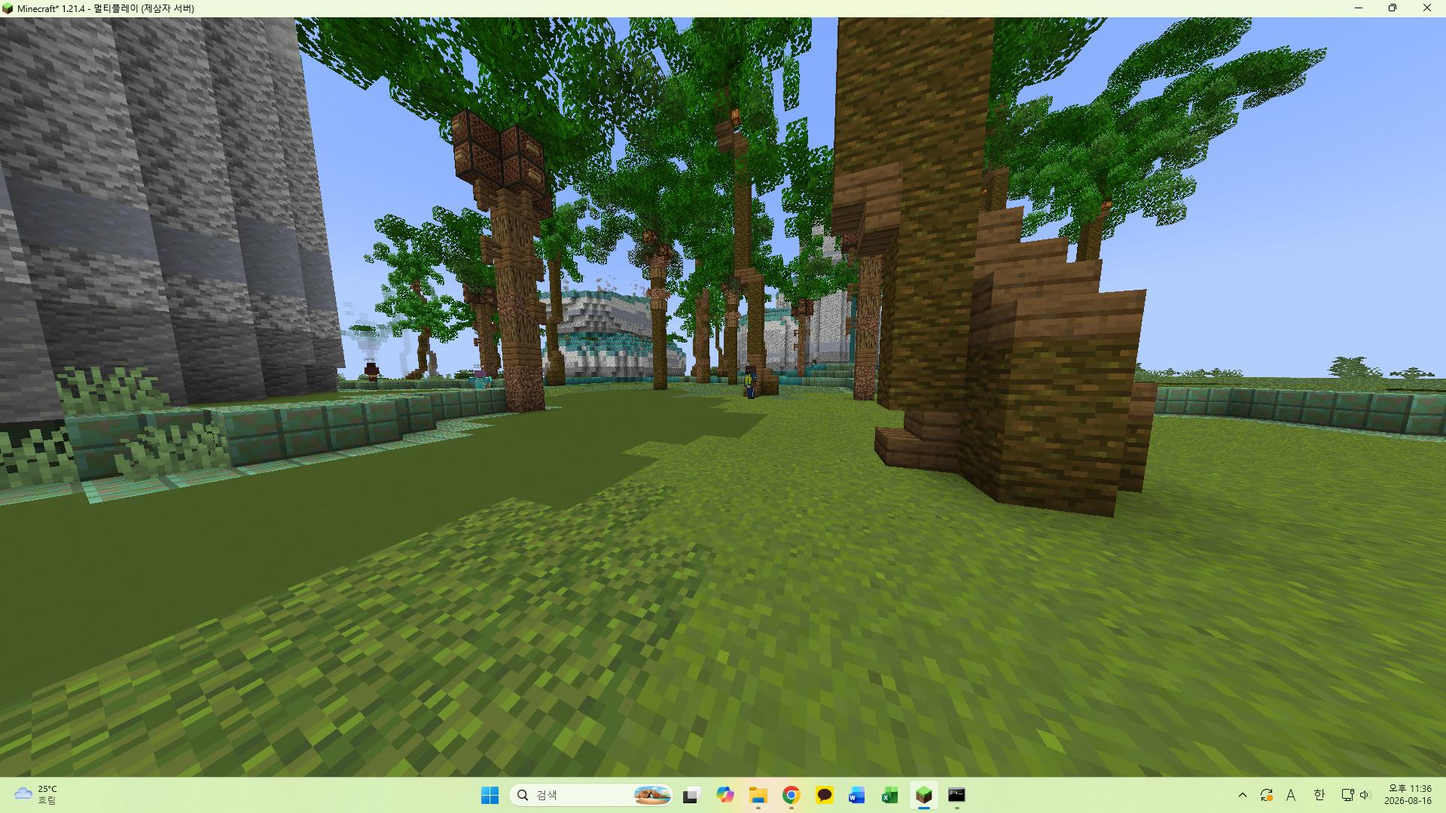Guardian: (740, 364, 761, 398)
